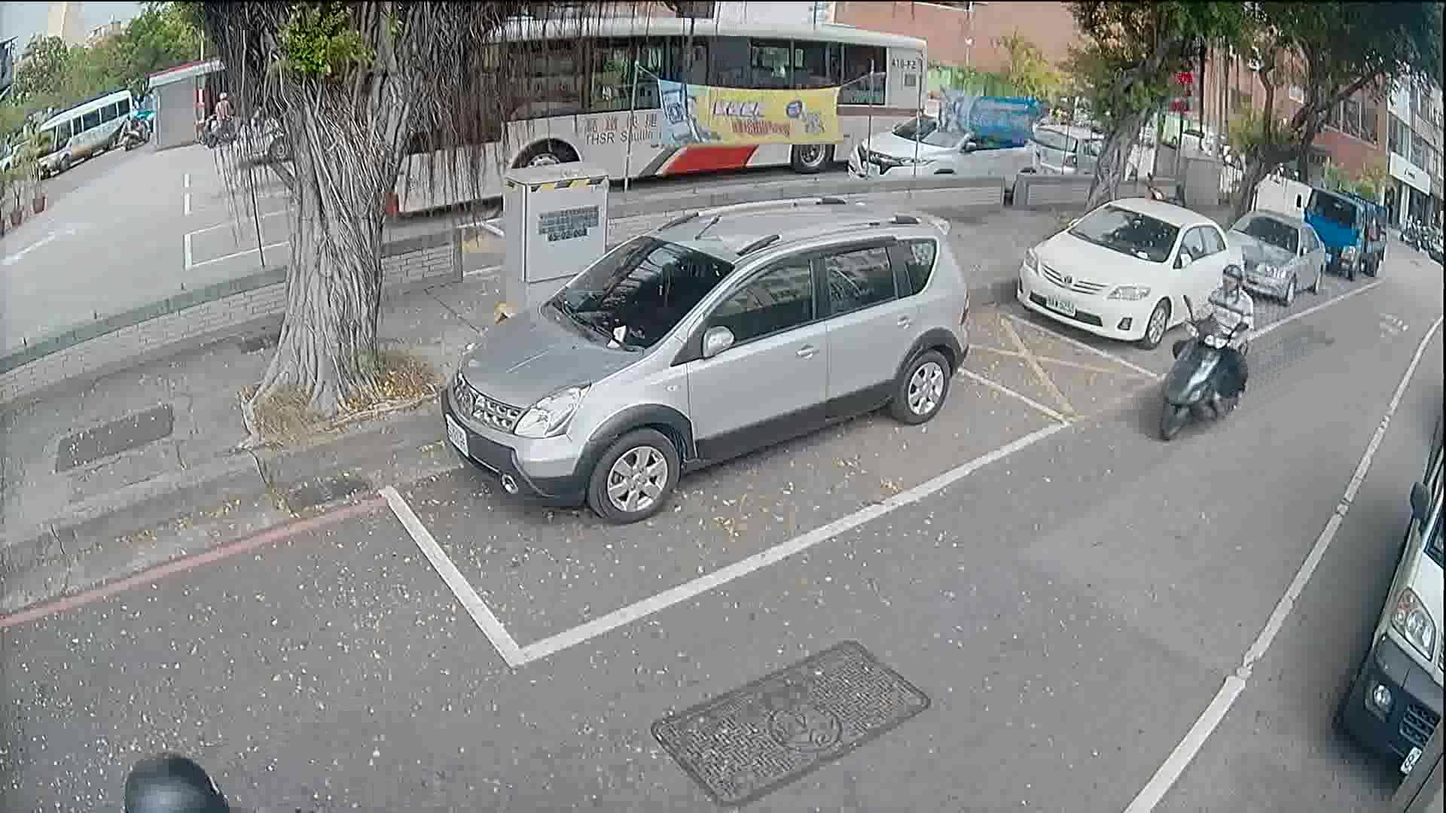person: (1168, 260, 1253, 420), (118, 749, 238, 812), (208, 85, 232, 143), (126, 108, 145, 137)
